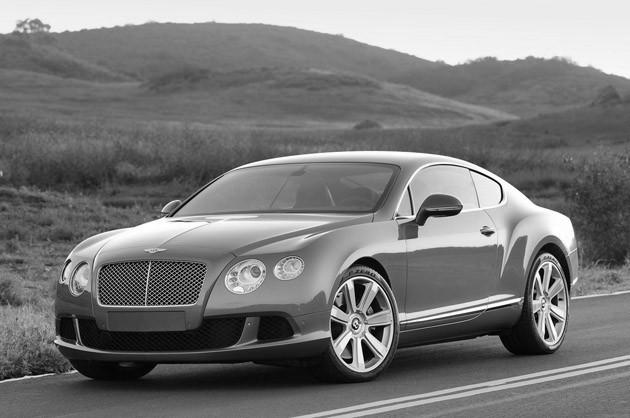car: (56, 153, 578, 386)
